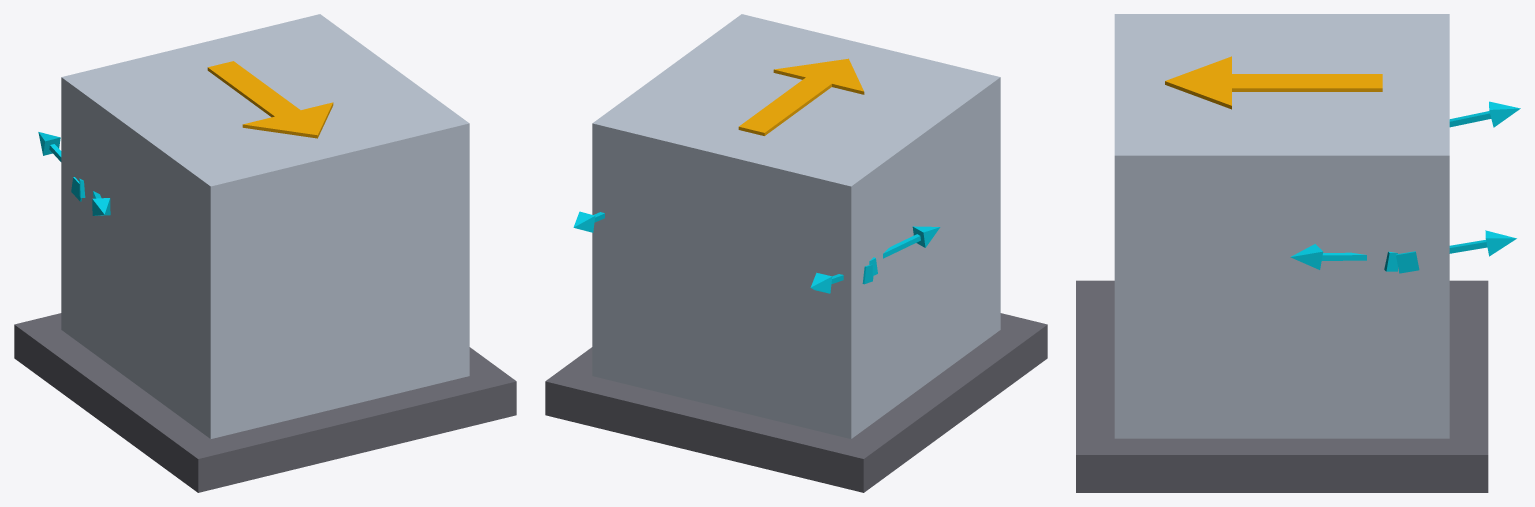
The picture shows the model from 3 angles, left to right: view 1: azimuth 30°, elevation 25°; view 2: azimuth 150°, elevation 25°; view 3: azimuth 270°, elevation 25°; orthographic projection. The views are drawn at different scales.
Visible parts, largest first — view 1: frame, bumpers, front, camera Camera4; view 2: frame, bumpers, front, camera Camera3, camera Camera4; view 3: frame, bumpers, front, camera Camera6, camera FrontLeft, camera Camera4.
Part boxes in pixels (x1,y1,x2,y2): frame: [61, 14, 469, 438]; bumpers: [14, 313, 516, 492]; front: [207, 61, 333, 138]; camera Camera4: [38, 132, 81, 201]; frame: [592, 14, 1000, 438]; bumpers: [545, 313, 1047, 492]; front: [738, 58, 864, 135]; camera Camera3: [869, 226, 940, 275]; camera Camera4: [810, 264, 873, 293]; frame: [1114, 14, 1449, 438]; bumpers: [1076, 280, 1488, 492]; front: [1165, 56, 1382, 109]; camera Camera6: [1396, 230, 1516, 273]; camera FrontLeft: [1290, 244, 1397, 271]; camera Camera4: [1449, 101, 1520, 127].
Bounding box in the file's own units: 0.8128 × 0.78 × 0.8772.
